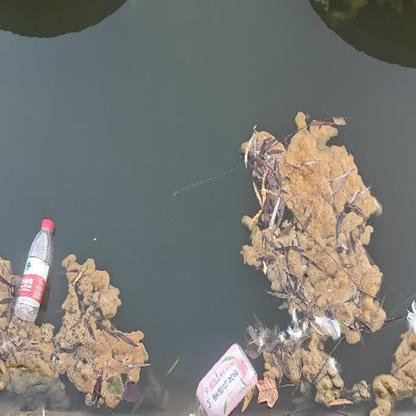plastic bottle: (190, 342, 259, 416), (16, 217, 56, 321)
